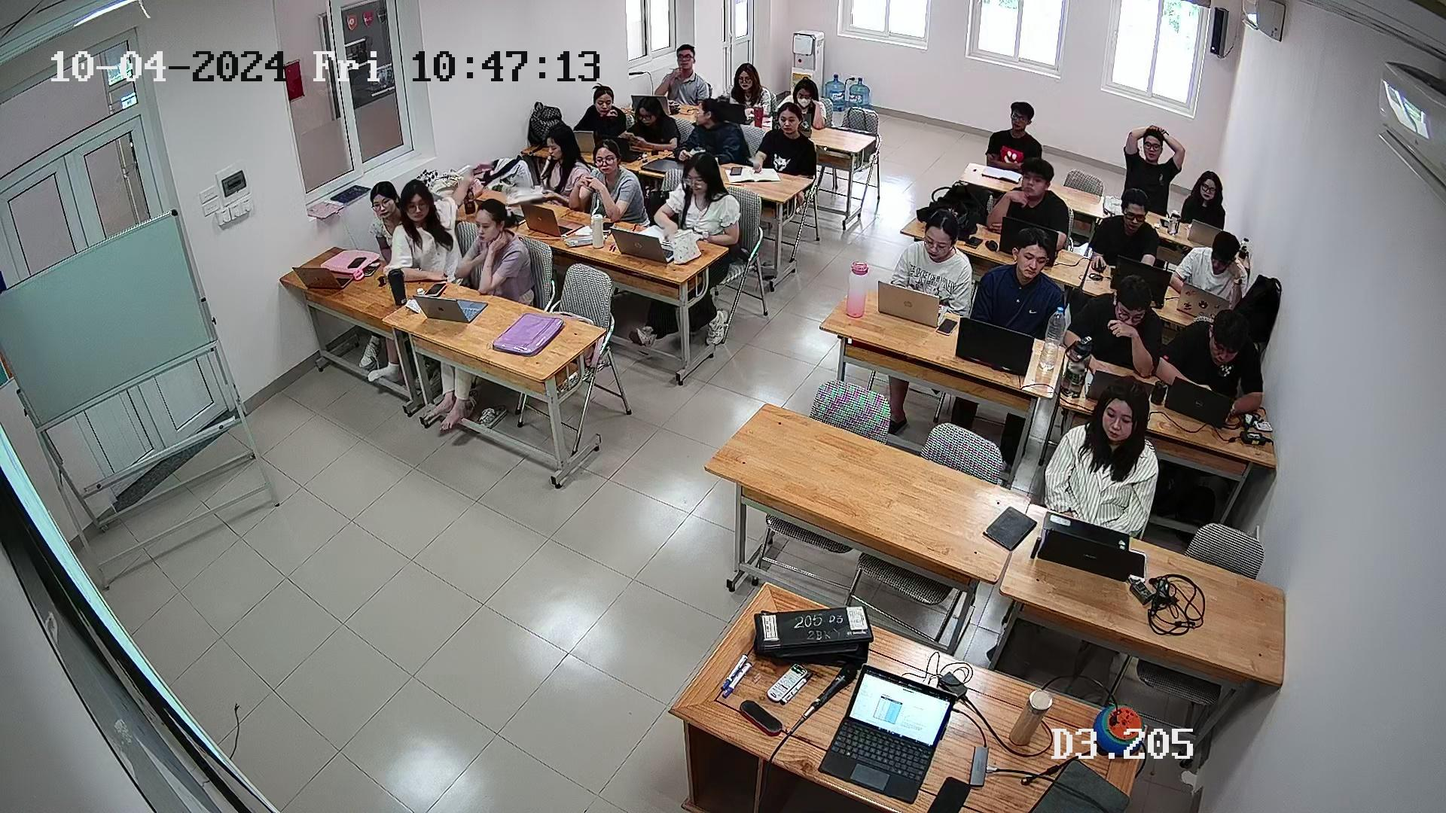Look Around: (689, 95, 726, 139), (403, 187, 433, 238)
Normal: (1090, 382, 1147, 479), (1100, 274, 1154, 345), (1193, 169, 1235, 226)
